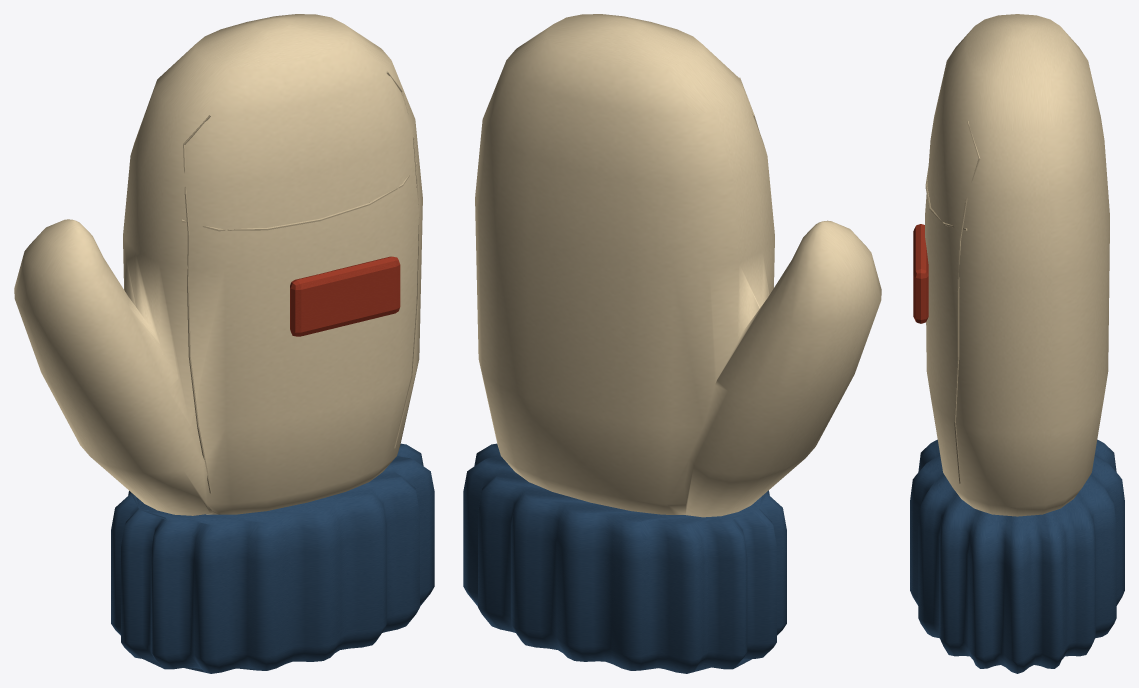
File: PM_Mitten_Right.fbx
3 renders of one model, left to right at view 1: azimuth 30°, elevation 25°; view 2: azimuth 150°, elevation 25°; view 3: azimuth 270°, elevation 25°, orthographic. The views are drawn at different scales.
Parts seen in each view (by area): view 1: PM_Mitten_Right; view 2: PM_Mitten_Right; view 3: PM_Mitten_Right.
Part boxes in pixels (x1,y1,x2,y2): PM_Mitten_Right: [14, 14, 434, 673]; PM_Mitten_Right: [463, 14, 881, 673]; PM_Mitten_Right: [910, 14, 1124, 673].
Bounding box in the file's own units: 23.55 × 33.67 × 11.35.
Materials: 1 (1 with a texture image).
